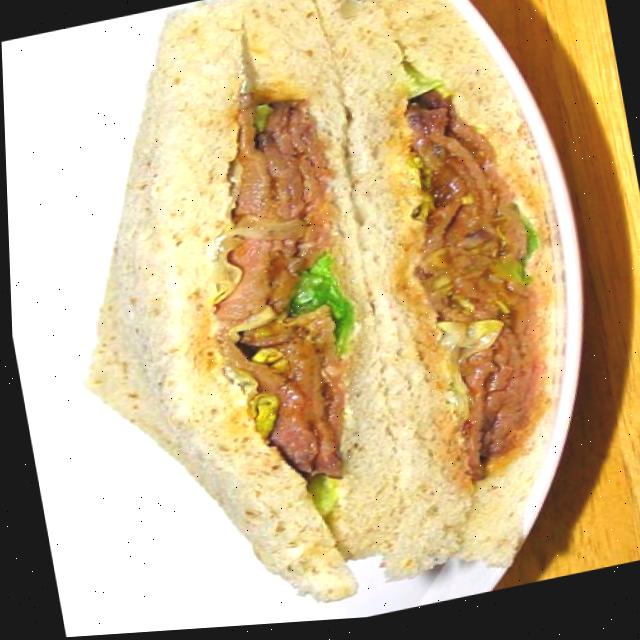三明治: (2, 0, 615, 640)
